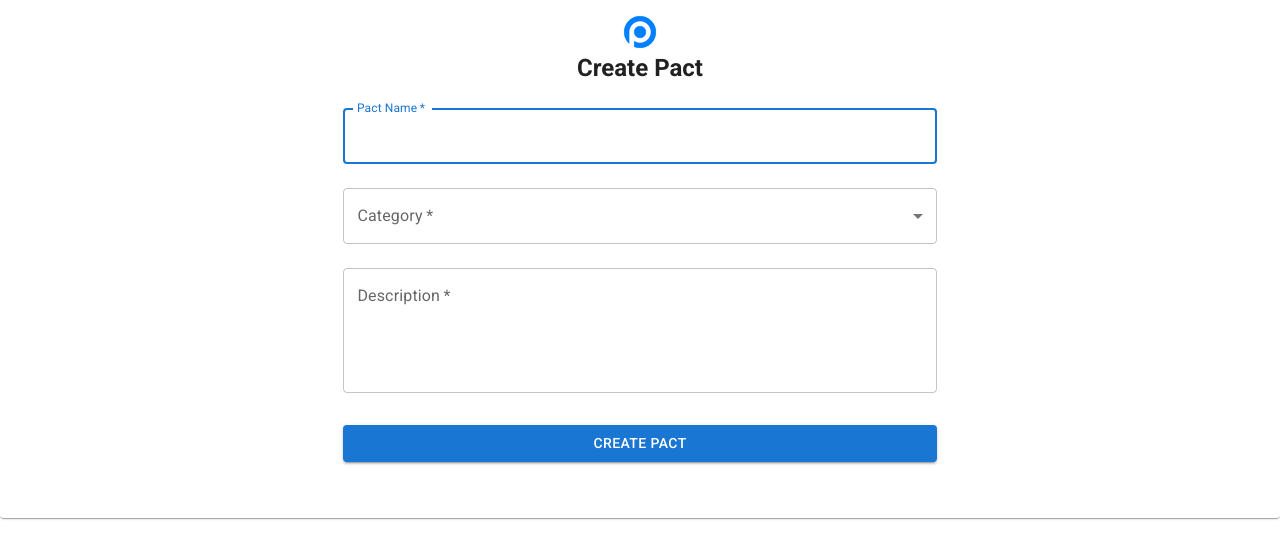
Test: CreatePact Tests › Check interaction with elements › should return error when invalid category is entered and Create Pact button is pressed with invalid input
Check: the text "Provide the category" is not shown
Step 1. Click the button "Create Pact" → (640, 443), box [343,425,937,462]
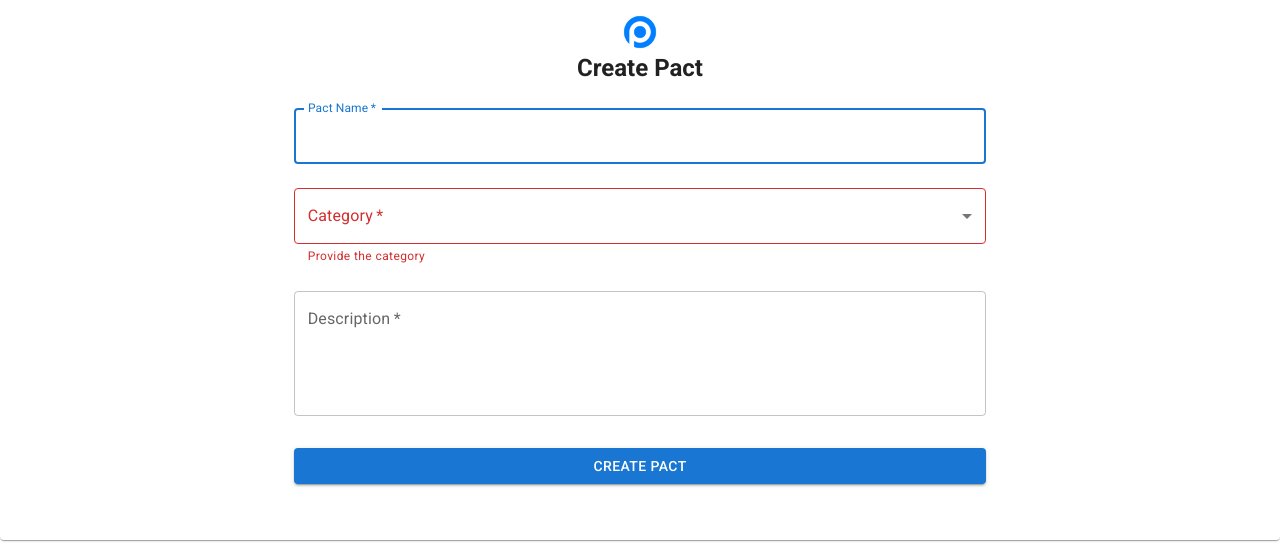
Check: the text "Provide the category" is shown, box [308,249,425,263]
